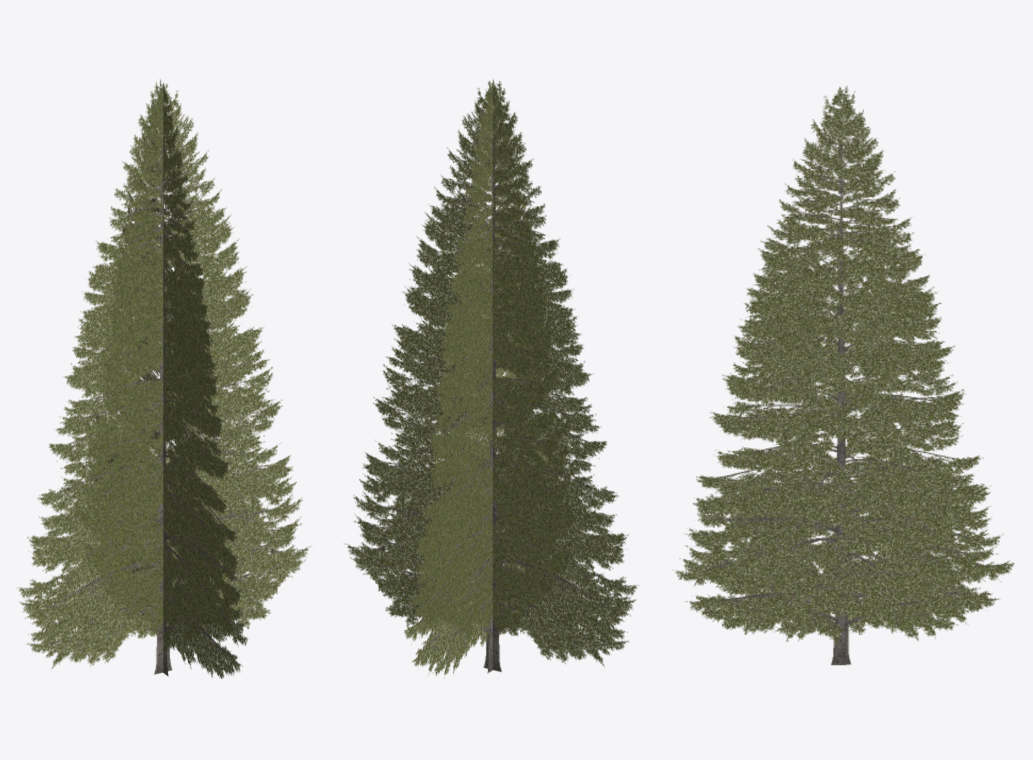
File: PiceaAbies.glb
3 renders of one model, left to right at view 1: azimuth 30°, elevation 25°; view 2: azimuth 150°, elevation 25°; view 3: azimuth 270°, elevation 25°, orthographic. The views are drawn at different scales.
Parts seen in each view (by area): view 1: mesh__mat_billboard_13; view 2: mesh__mat_billboard_13; view 3: mesh__mat_billboard_13.
Part boxes in pixels (bbox=[...]): mesh__mat_billboard_13: bbox=[17, 79, 311, 678]; mesh__mat_billboard_13: bbox=[345, 79, 638, 678]; mesh__mat_billboard_13: bbox=[673, 85, 1014, 665].
Bounding box in the file's own units: 13.55 × 26.03 × 13.96.
Materials: 1 (1 with a texture image).
